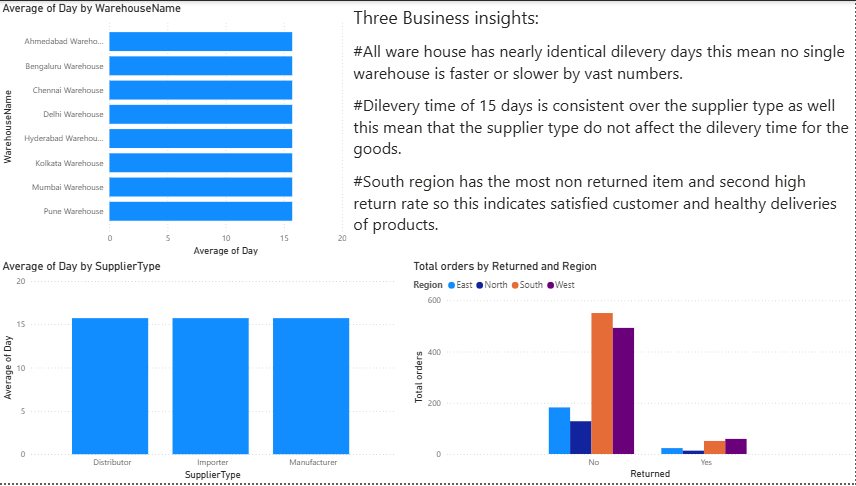

The page's visual inventory and layout, read from the dashboard file:
{"tool":"powerbi","page":{"name":"Delivery performance analysis","canvas":[1280,720],"ordinal":8},"visuals":[{"type":"barChart","fields":{"Y":["Avg(Date.Day)"],"Category":["Warehouse.WarehouseName"]},"box":[0,0,524.3,385.4],"z":0},{"type":"columnChart","fields":{"Y":["Avg(Date.Day)"],"Category":["Supplier.SupplierType"]},"box":[0,385.4,594.5,334.6],"z":1000},{"type":"clusteredColumnChart","fields":{"Category":["Orders (1).Returned"],"Series":["Customer.Region"],"Y":["Orders (1).Total orders"]},"box":[613.9,385.4,666.2,334.6],"z":2000},{"type":"textbox","box":[524.3,0,755.9,385.4],"z":3000}]}

Visuals, with their boxes in screenshot pixels (x1, y1, x2, y2), scaled from the page's 1280x720 canvas onto the 856x486 screenshot:
barChart - Avg(Date.Day) x Warehouse.WarehouseName: (left=0, top=0, right=351, bottom=260)
columnChart - Avg(Date.Day) x Supplier.SupplierType: (left=0, top=260, right=398, bottom=485)
clusteredColumnChart - Orders (1).Returned x Customer.Region: (left=411, top=260, right=855, bottom=485)
textbox: (left=351, top=0, right=855, bottom=260)
